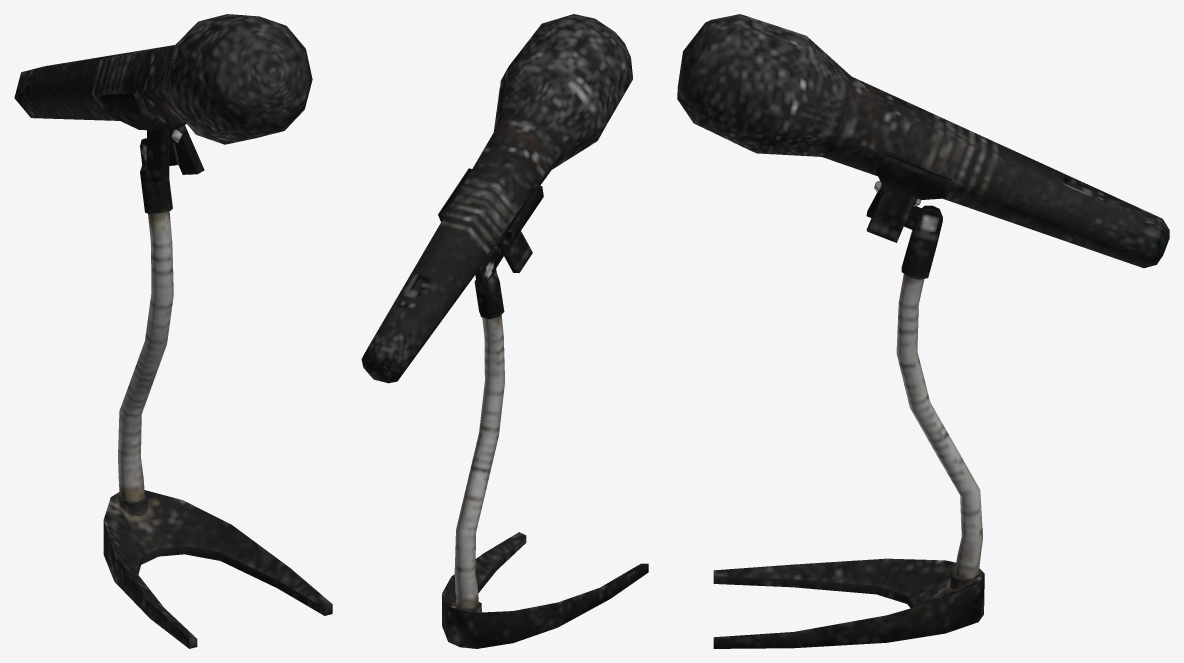
File: 009_microphonestand02.fbx
The picture shows the model from 3 angles, left to right: view 1: azimuth 30°, elevation 25°; view 2: azimuth 150°, elevation 25°; view 3: azimuth 270°, elevation 25°; orthographic projection. The views are drawn at different scales.
Visible parts, largest first — view 1: LOD_1_Group_1_Sub_1__sm31_009_MicrophoneStand02A_A_Mat, LOD_1_Group_0_Sub_1__sm31_009_MicrophoneStand02A_A_Mat; view 2: LOD_1_Group_0_Sub_1__sm31_009_MicrophoneStand02A_A_Mat, LOD_1_Group_1_Sub_1__sm31_009_MicrophoneStand02A_A_Mat; view 3: LOD_1_Group_0_Sub_1__sm31_009_MicrophoneStand02A_A_Mat, LOD_1_Group_1_Sub_1__sm31_009_MicrophoneStand02A_A_Mat.
Boxes of the visible parts, x1=… form: LOD_1_Group_1_Sub_1__sm31_009_MicrophoneStand02A_A_Mat: x1=99, y1=93, x2=332, y2=648; LOD_1_Group_0_Sub_1__sm31_009_MicrophoneStand02A_A_Mat: x1=14, y1=14, x2=312, y2=144; LOD_1_Group_0_Sub_1__sm31_009_MicrophoneStand02A_A_Mat: x1=361, y1=14, x2=632, y2=383; LOD_1_Group_1_Sub_1__sm31_009_MicrophoneStand02A_A_Mat: x1=438, y1=168, x2=648, y2=648; LOD_1_Group_0_Sub_1__sm31_009_MicrophoneStand02A_A_Mat: x1=677, y1=14, x2=1169, y2=268; LOD_1_Group_1_Sub_1__sm31_009_MicrophoneStand02A_A_Mat: x1=713, y1=154, x2=984, y2=648.
Size of the model in its own units: 0.0584 by 0.2344 by 0.1762.
